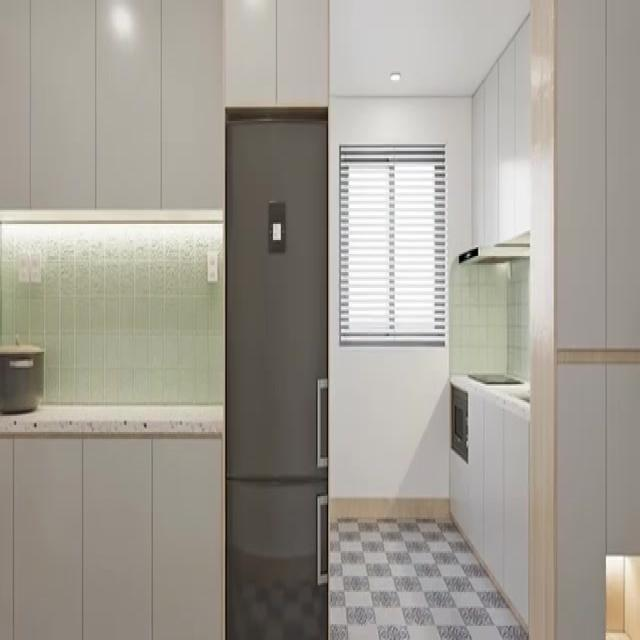obstacle: (224, 106, 329, 638), (0, 0, 224, 208), (0, 432, 220, 640), (226, 0, 326, 106)
